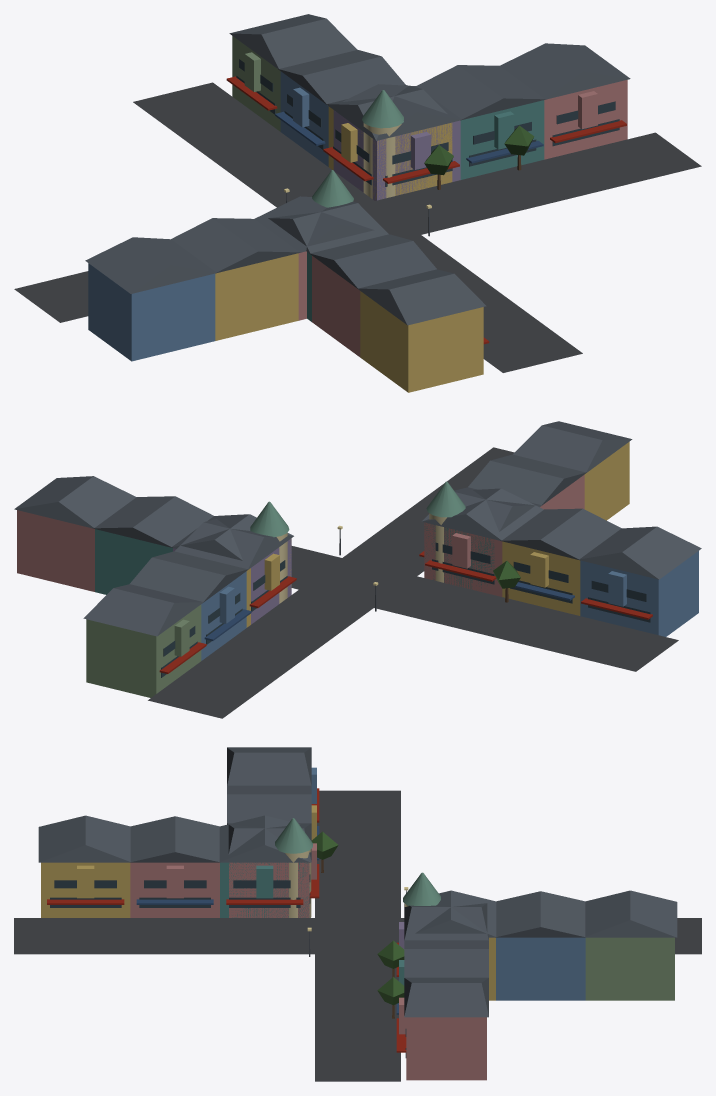
Rendered from mobile.glb.
3 renders of one model, top to bottom at view 1: azimuth 30°, elevation 25°; view 2: azimuth 150°, elevation 25°; view 3: azimuth 270°, elevation 25°, orthographic. The views are drawn at different scales.
Visible parts, largest first — view 1: lm.haight-ashbury; view 2: lm.haight-ashbury; view 3: lm.haight-ashbury.
Boxes of the visible parts, x1=… form: lm.haight-ashbury: x1=14, y1=14, x2=701, y2=392; lm.haight-ashbury: x1=14, y1=421, x2=701, y2=718; lm.haight-ashbury: x1=14, y1=747, x2=701, y2=1081.
Size of the model in its own units: 128 by 20.6 by 128.
